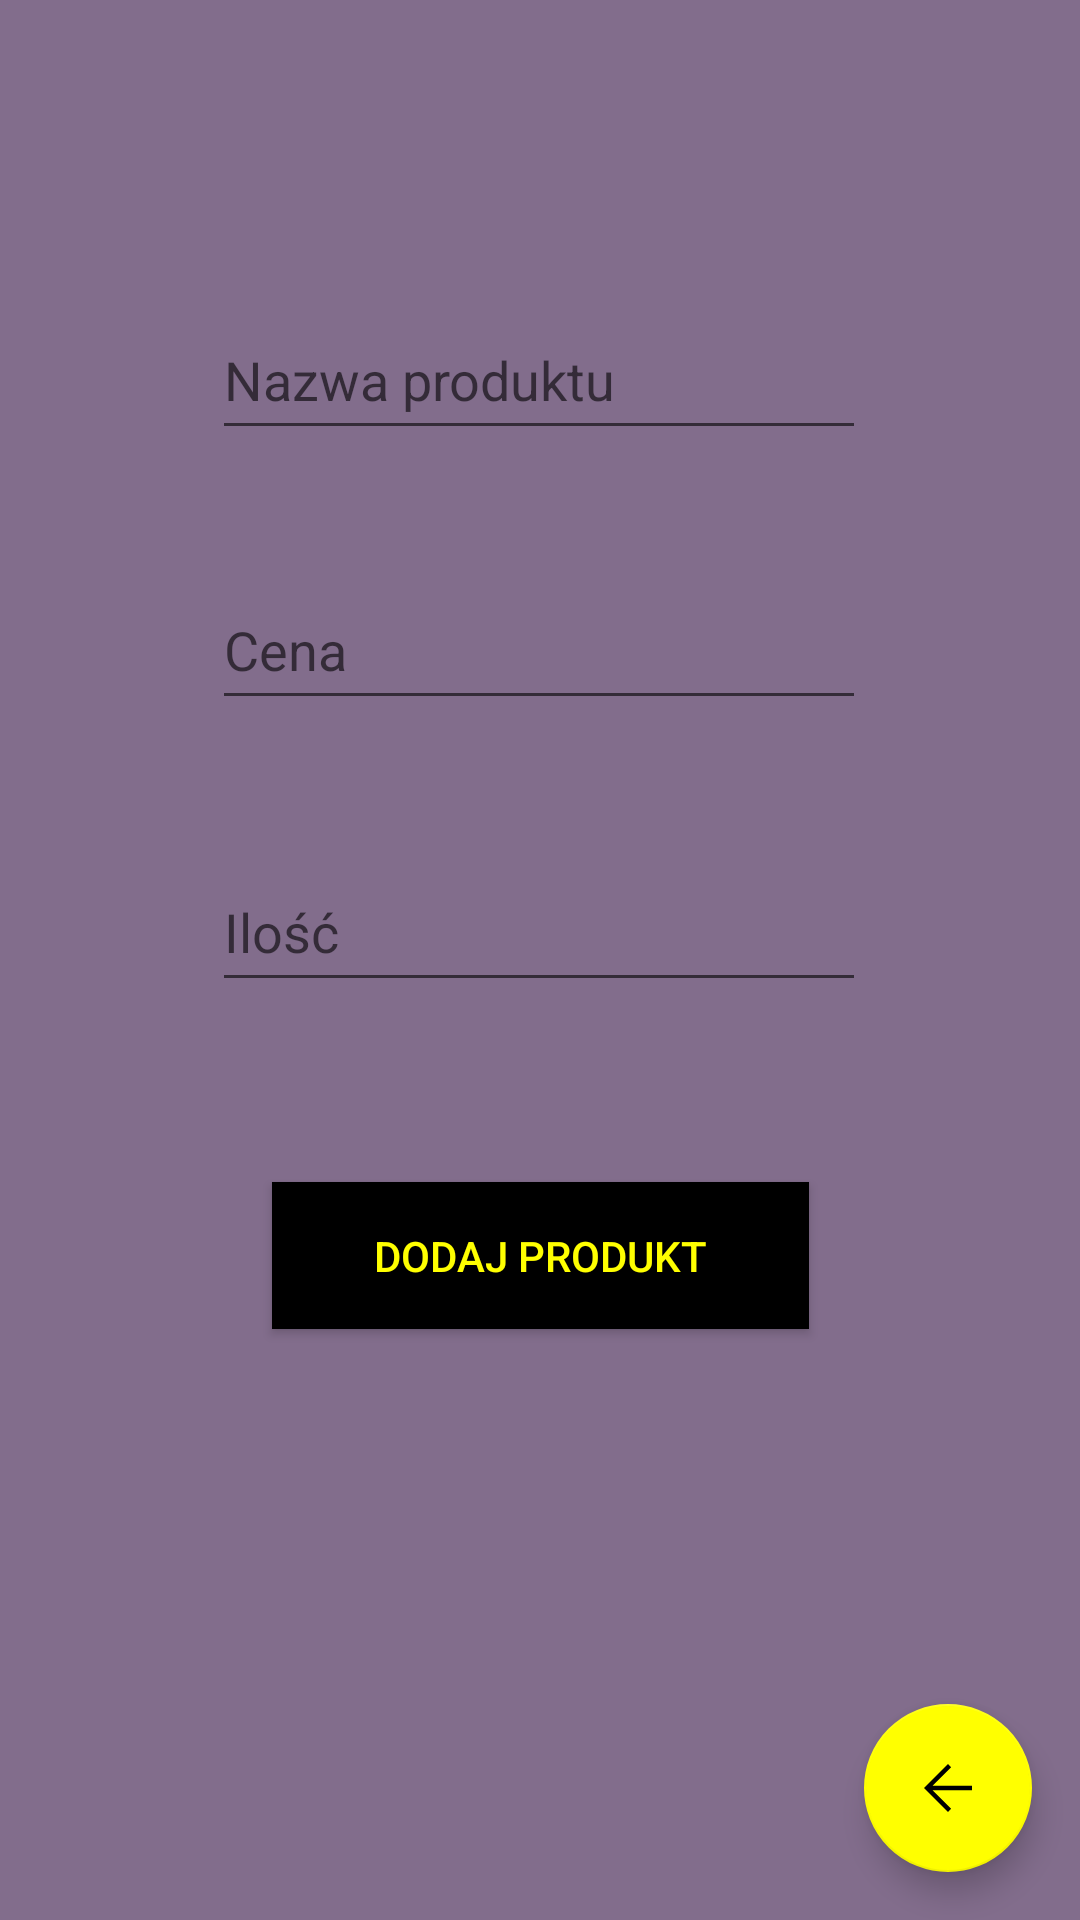

Where to tap for icons on this 1080*1920 app screen, as (x,y):
arrow back: (948,1788)
